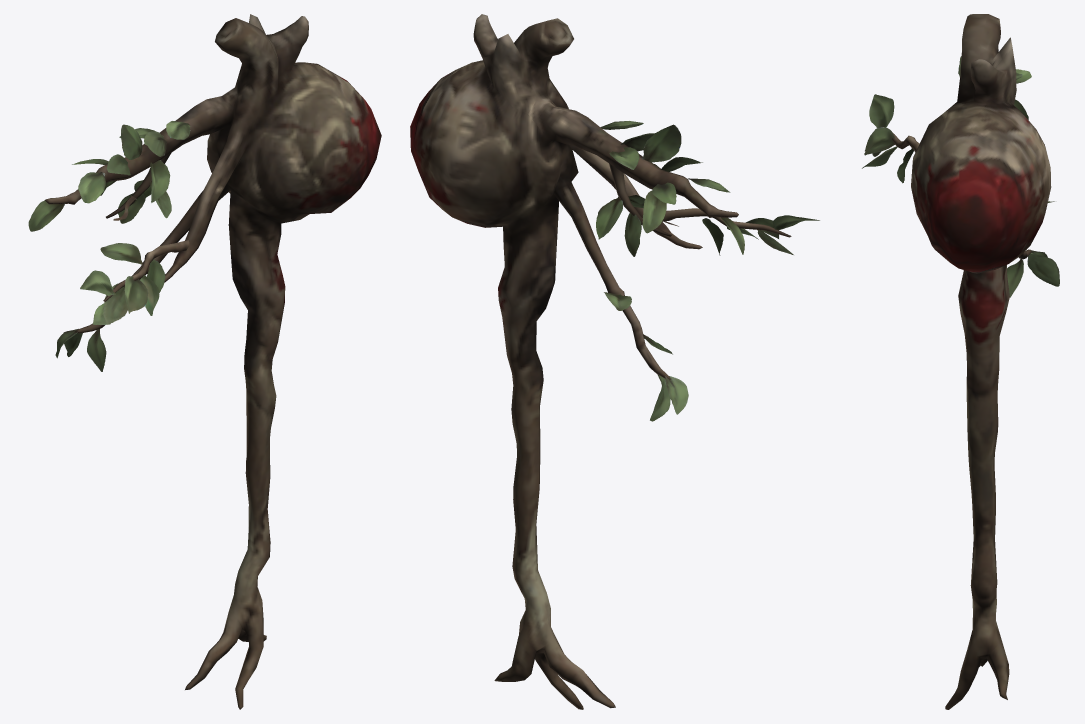
File: weapon-bud-of-the-everlasting-tree.glb
3 renders of one model, left to right at view 1: azimuth 30°, elevation 25°; view 2: azimuth 150°, elevation 25°; view 3: azimuth 270°, elevation 25°, orthographic. The views are drawn at different scales.
Parts seen in each view (by area): view 1: greatHammerG_MDL_q; view 2: greatHammerG_MDL_q; view 3: greatHammerG_MDL_q.
Boxes of the visible parts, box(x1,y1,x2,y2) form: greatHammerG_MDL_q: box(28, 14, 381, 709); greatHammerG_MDL_q: box(410, 14, 819, 709); greatHammerG_MDL_q: box(862, 14, 1059, 709).
Size of the model in its own units: 1.41 by 2.65 by 0.7437.
1 material, 1 textured.
